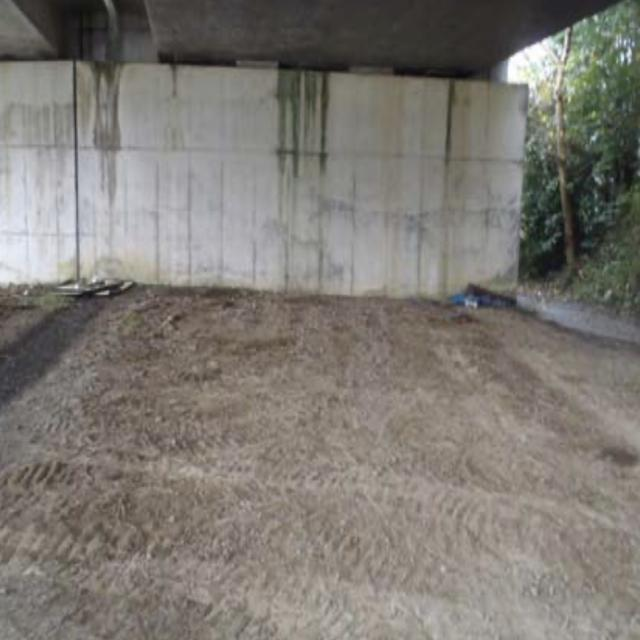leakage: (63, 43, 131, 181), (272, 49, 328, 204)
